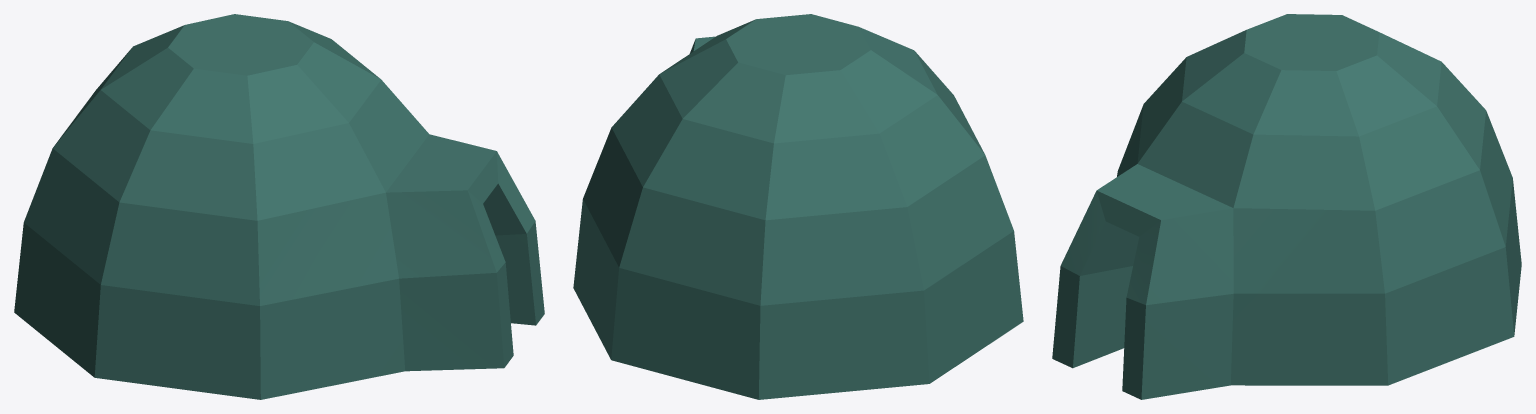
The model's file is coldSmall_iglooA.FBX.
3 renders of one model, left to right at view 1: azimuth 30°, elevation 25°; view 2: azimuth 150°, elevation 25°; view 3: azimuth 270°, elevation 25°, orthographic. The views are drawn at different scales.
Visible parts, largest first — view 1: coldSmall_iglooA; view 2: coldSmall_iglooA; view 3: coldSmall_iglooA.
Boxes of the visible parts, x1,y1,x2,y2 form: coldSmall_iglooA: [14, 14, 544, 399]; coldSmall_iglooA: [573, 14, 1023, 399]; coldSmall_iglooA: [1052, 14, 1521, 399].
Bounding box in the file's own units: 232 × 143 × 239.
